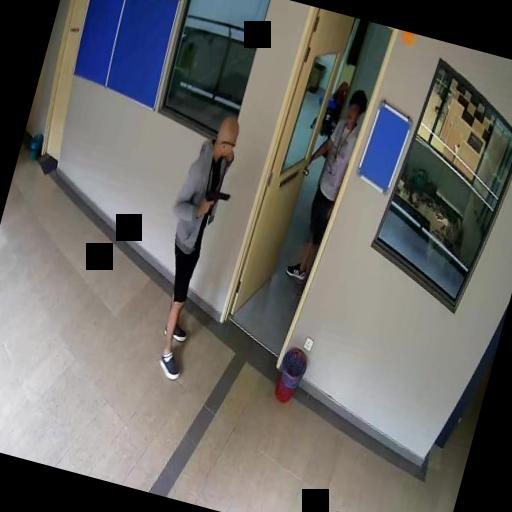Handgun: (200, 185, 229, 217)
